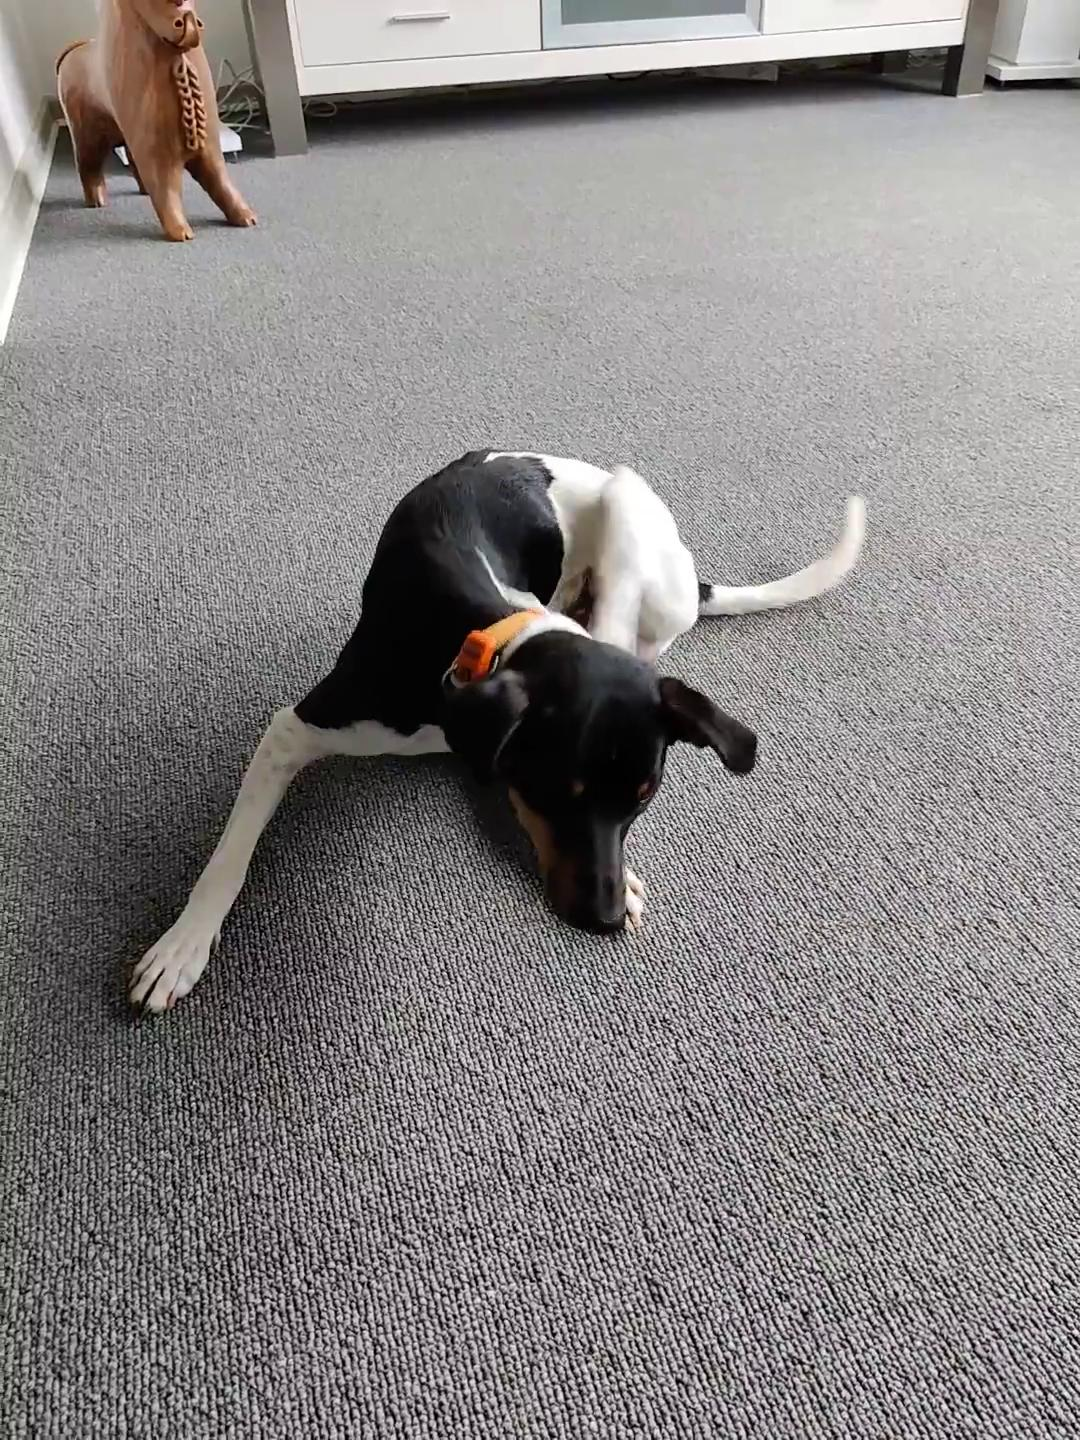Dog: (113, 443, 874, 1020)
